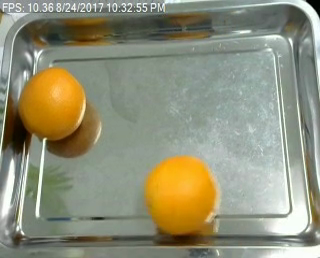Orange: (146, 154, 218, 235), (18, 68, 86, 139)
